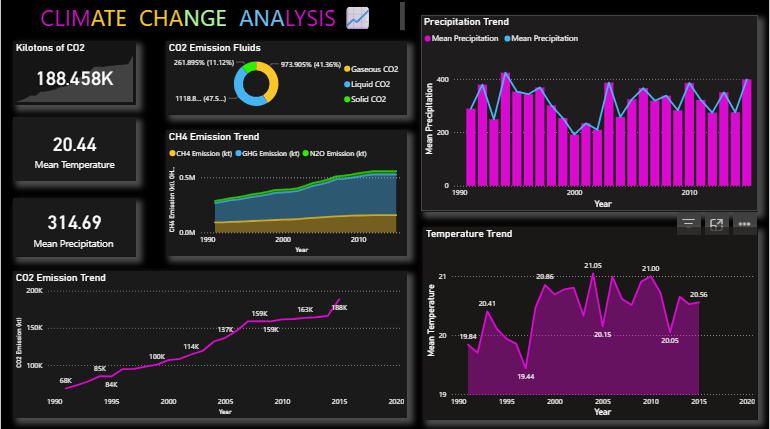

The page's visual inventory and layout, read from the dashboard file:
{"tool":"powerbi","page":{"name":"Page 1","canvas":[1280,720],"ordinal":0},"visuals":[{"type":"lineStackedColumnComboChart","title":"Precipitation  Trend","fields":{"Category":["Data.Year"],"Y":["Avg(Data.Mean Precipitation )"],"Y2":["Avg(Data.Mean Precipitation )"]},"box":[700,26,562,328],"z":0},{"type":"areaChart","title":"Temperature  Trend","fields":{"Category":["Data.Year"],"Y":["Avg(Data.Mean Temperature)"]},"box":[704,380,558,322],"z":1000},{"type":"lineChart","title":"CO2 Emission Trend","fields":{"Category":["Data.Year"],"Y":["Sum(Data.CO2 Emission (kt))"]},"box":[20,453.3,656.7,245],"z":2000},{"type":"stackedAreaChart","fields":{"Category":["Data.Year"],"Y":["Sum(Data.CH4 Emission (kt))","Sum(Data.GHG Emission (kt))","Sum(Data.N2O Emission (kt))"]},"box":[275,218.3,401.7,210],"z":3000},{"type":"donutChart","title":" CO2 Emission Fluids","fields":{"Y":["Sum(Data.Gaseous CO2)","Sum(Data.Liquid CO2)","Sum(Data.Solid CO2)"]},"box":[275,70,401.7,123.3],"z":4000},{"type":"kpi","title":"Kilotons of CO2 ","fields":{"TrendLine":["Data.Year"],"Indicator":["Sum(Data.CO2 Emission (kt))"]},"box":[20,70,205,106.7],"z":5000},{"type":"card","fields":{"Values":["Avg(Data.Mean Temperature)"]},"box":[20,196.7,205,106.7],"z":6000},{"type":"card","fields":{"Values":["Avg(Data.Mean Precipitation )"]},"box":[20,331.7,205,98.3],"z":7000},{"type":"textbox","box":[100,100,300,300],"z":8000},{"type":"textbox","box":[100,100,300,300],"z":9000},{"type":"textbox","box":[20,0,658,58],"z":10000}]}

Visuals, with their boxes in screenshot pixels (x1, y1, x2, y2), scaled from the page's 1280x720 canvas onto the 770x429 screenshot:
"Precipitation  Trend" lineStackedColumnComboChart: x1=421, y1=15, x2=759, y2=211
"Temperature  Trend" areaChart: x1=424, y1=226, x2=759, y2=418
"CO2 Emission Trend" lineChart: x1=12, y1=270, x2=407, y2=416
stackedAreaChart - Data.Year x Sum(Data.CH4 Emission (kt)): x1=165, y1=130, x2=407, y2=255
" CO2 Emission Fluids" donutChart: x1=165, y1=42, x2=407, y2=115
"Kilotons of CO2 " kpi: x1=12, y1=42, x2=135, y2=105
card - Avg(Data.Mean Temperature): x1=12, y1=117, x2=135, y2=181
card - Avg(Data.Mean Precipitation ): x1=12, y1=198, x2=135, y2=256
textbox: x1=60, y1=60, x2=241, y2=238
textbox: x1=60, y1=60, x2=241, y2=238
textbox: x1=12, y1=0, x2=408, y2=35
